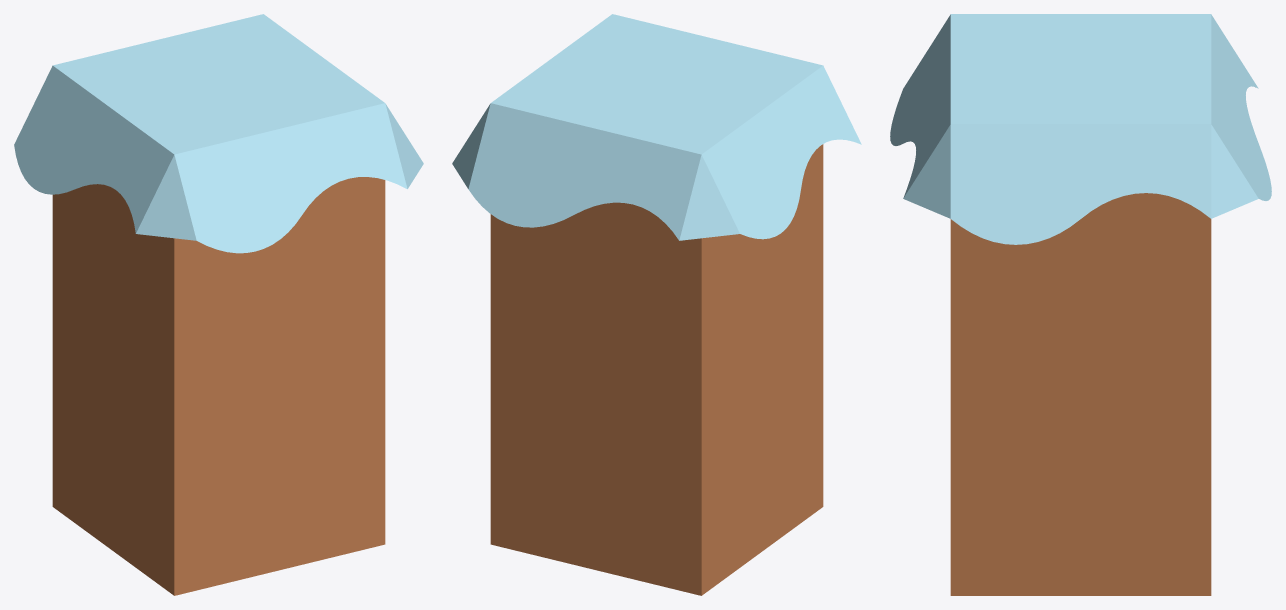
File: blockSnowQuarter.dae
3 views of the same model, side by side, from view 1: azimuth 30°, elevation 25°; view 2: azimuth 150°, elevation 25°; view 3: azimuth 270°, elevation 25° (orthographic). The views are drawn at different scales.
Parts seen in each view (by area): view 1: blockSnowQuarter; view 2: blockSnowQuarter; view 3: blockSnowQuarter.
Boxes of the visible parts, left/top/right/bottom form: blockSnowQuarter: left=14, top=14, right=423, bottom=595; blockSnowQuarter: left=452, top=14, right=861, bottom=595; blockSnowQuarter: left=890, top=14, right=1271, bottom=595.
Bounding box in the file's own units: 0.733 × 1 × 0.733.
